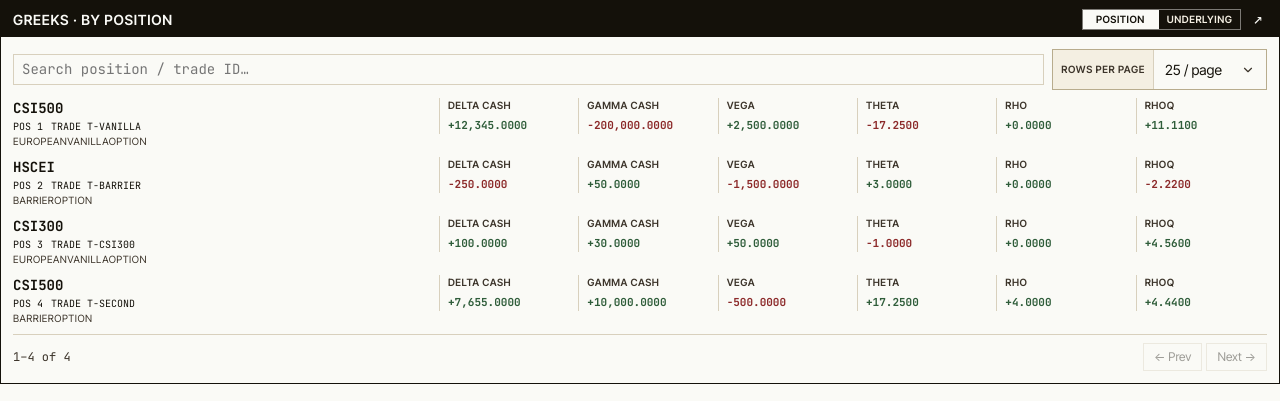
Test case: GreeksByPosition › filters underlying rows by underlying search
The width and height of the screenshot is (1280, 401).
Click the button "Underlying": (1200, 19) [1159,10,1240,28]
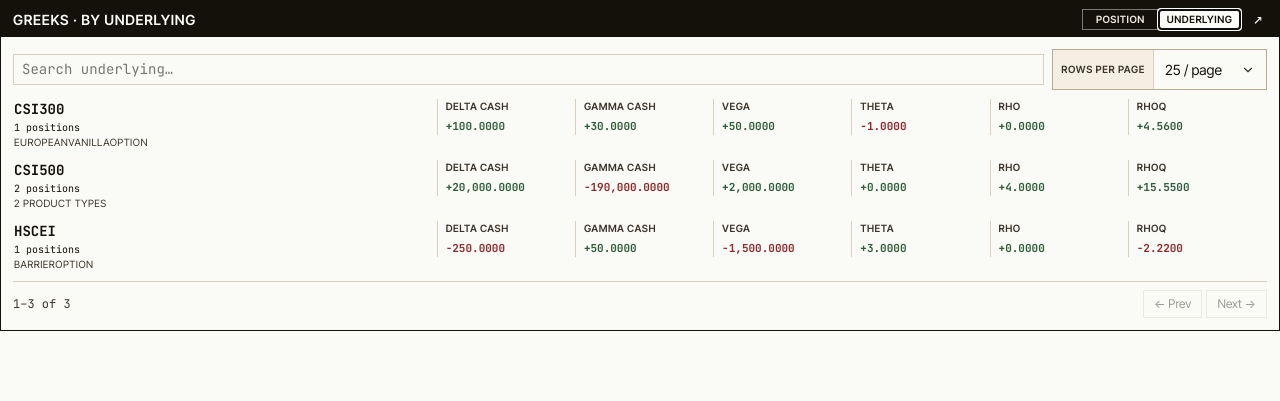
In the field with placeholder "Search underlying…": (529, 70) [13,54,1044,85], type "hscei"
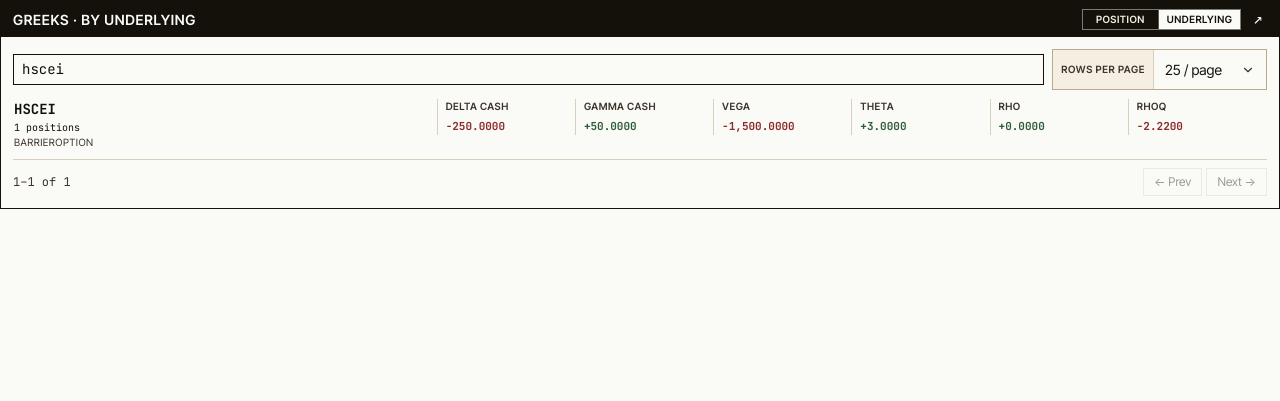
Expected: the text "HSCEI" is shown, [14,100,56,118]
Result: the button "CSI500" is gone
Result: the text "1–1 of 1" is shown at [13,173,71,191]
